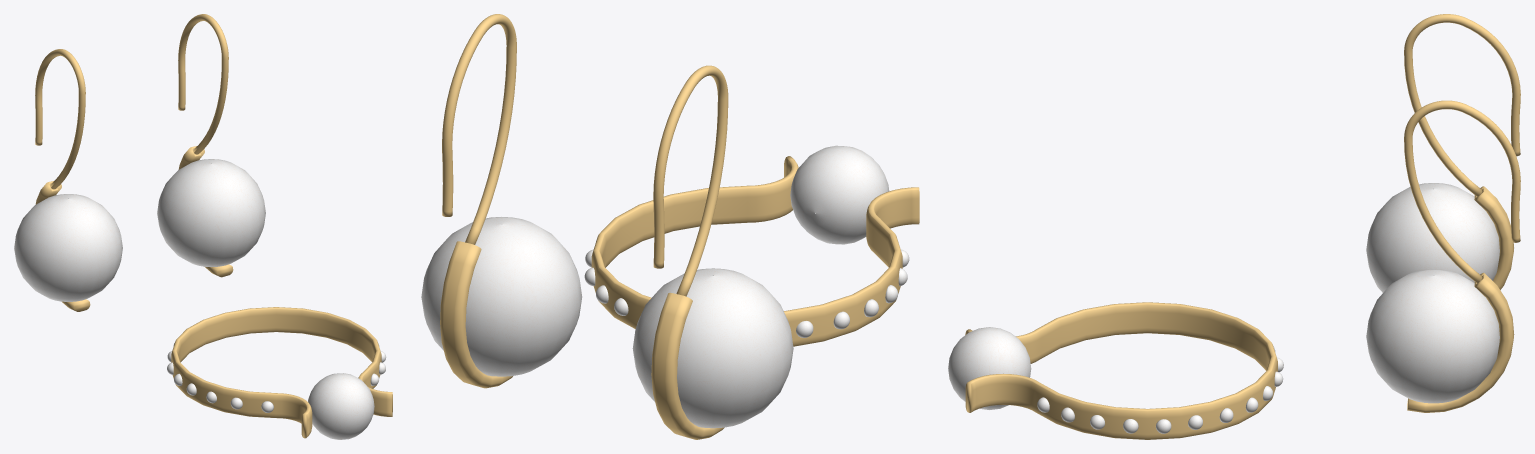
File: Jewelry 1.dae
The picture shows the model from 3 angles, left to right: view 1: azimuth 30°, elevation 25°; view 2: azimuth 150°, elevation 25°; view 3: azimuth 270°, elevation 25°; orthographic projection. The views are drawn at different scales.
Parts seen in each view (by area): view 1: group_0 (×2), pierścionek, kolczyki (×4), group_8; view 2: group_0 (×2), kolczyki (×4), pierścionek, group_8; view 3: group_0 (×2), pierścionek, kolczyki (×4), group_8.
Boxes of the visible parts, <box> form: group_0 (×2): <box>14,159,265,301</box>; pierścionek: <box>171,307,392,438</box>; kolczyki (×4): <box>35,14,233,311</box>; group_8: <box>308,373,374,439</box>; group_0 (×2): <box>421,217,793,428</box>; kolczyki (×4): <box>440,14,728,439</box>; pierścionek: <box>591,156,919,346</box>; group_8: <box>790,145,889,244</box>; group_0 (×2): <box>1366,183,1499,403</box>; pierścionek: <box>965,302,1277,439</box>; kolczyki (×4): <box>1404,14,1520,412</box>; group_8: <box>948,327,1031,409</box>.
Size of what is drawn, in the model's own units: 27.99 by 47.2 by 30.7.
